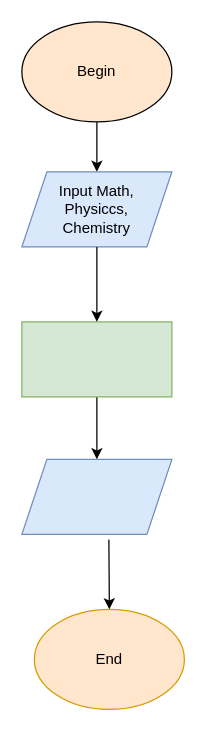
Image size: 206x731. Some labels were removed from this diagram. Here are the shapes that lost their labels. From the top down, the centre of each, then its label:
(x=96, y=359): Average = (Math + Physics + Chemistry) / 3
(x=96, y=496): Display Average
